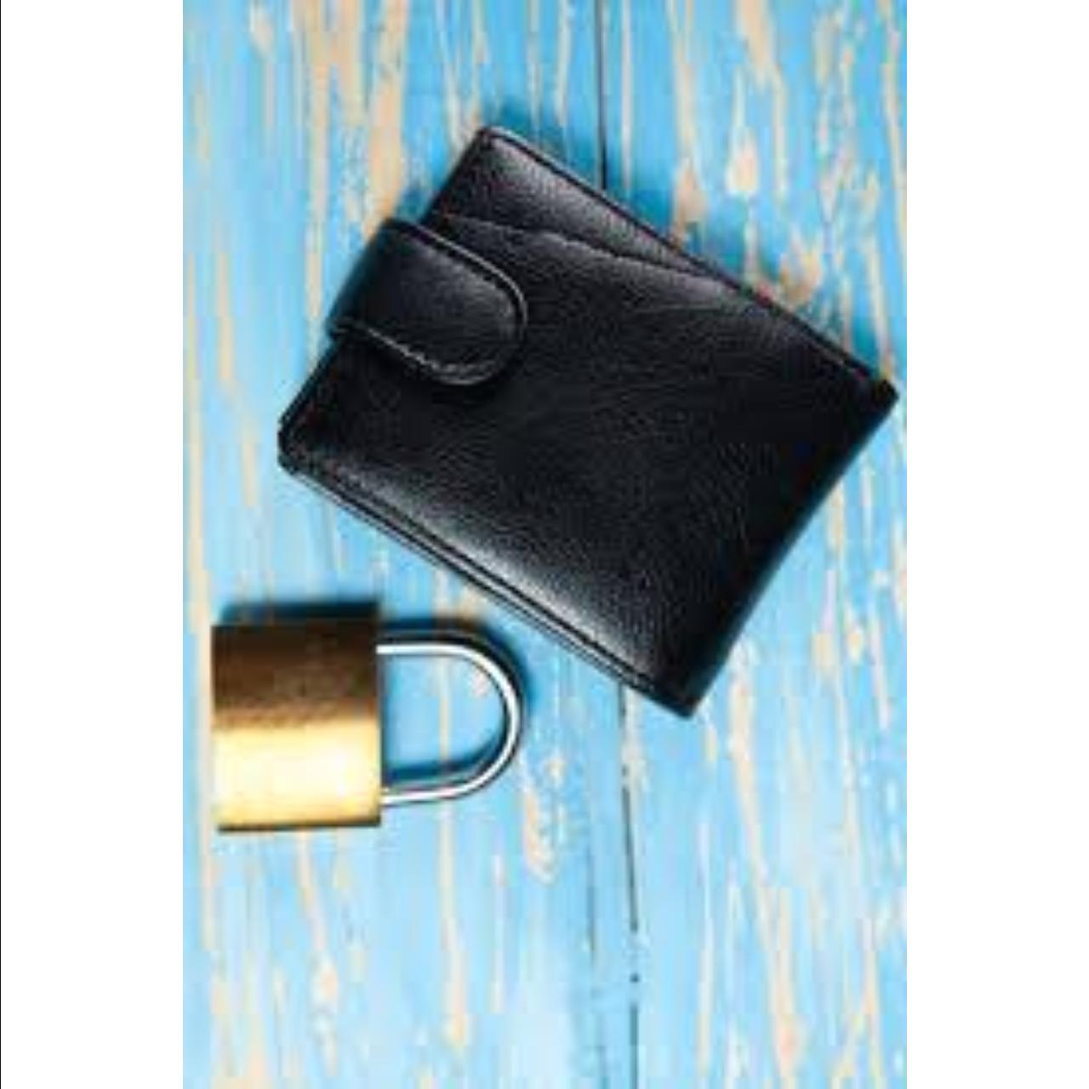wallet: (292, 141, 901, 715)
